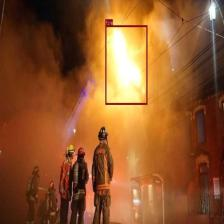fire: (105, 25, 147, 105)
